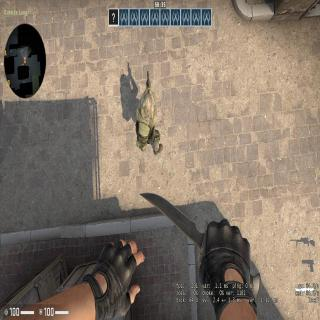CT-Body: (134, 74, 162, 159)
CT-Head: (139, 92, 156, 121)
